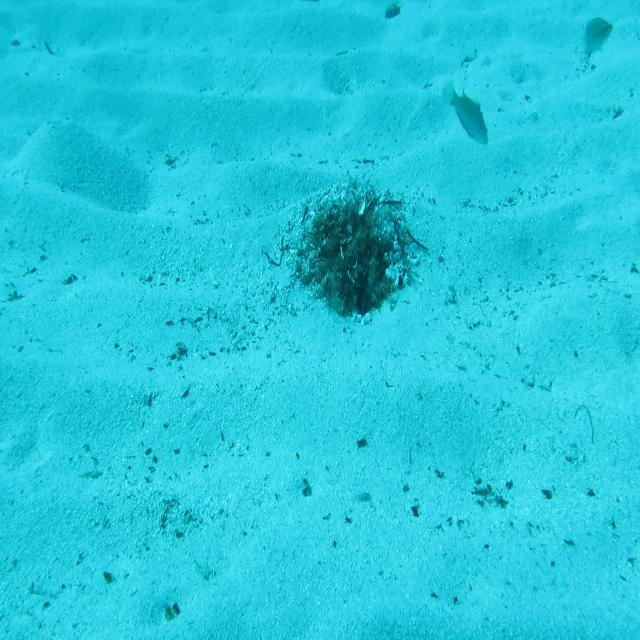MAF: (438, 75, 497, 155)
female: (577, 9, 617, 78)
nest: (286, 186, 417, 322)
